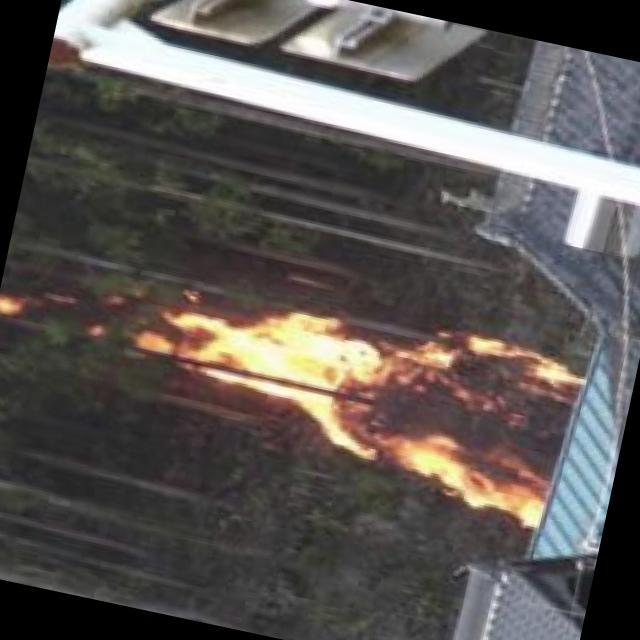Fire: (132, 272, 587, 516)
